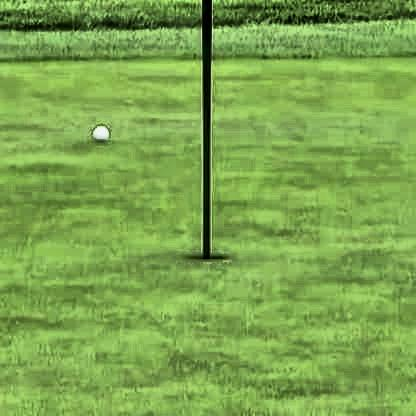golfball: (89, 123, 108, 141)
